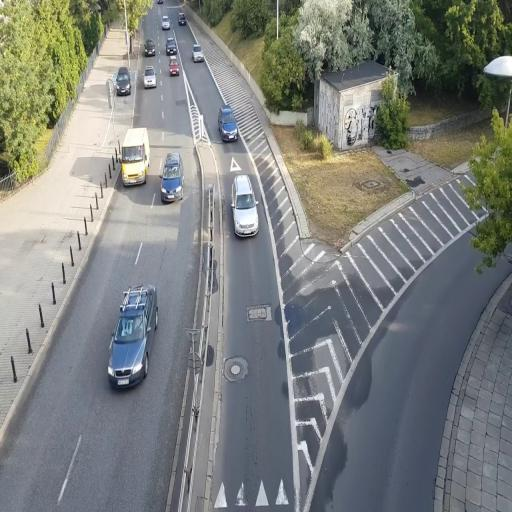vehicle: (106, 284, 158, 389), (107, 284, 157, 390), (231, 173, 260, 240), (120, 127, 150, 187), (120, 127, 150, 186), (160, 150, 184, 202), (219, 106, 238, 141), (114, 68, 132, 96), (143, 67, 157, 89), (191, 41, 204, 62), (165, 36, 177, 56), (169, 58, 179, 76)
